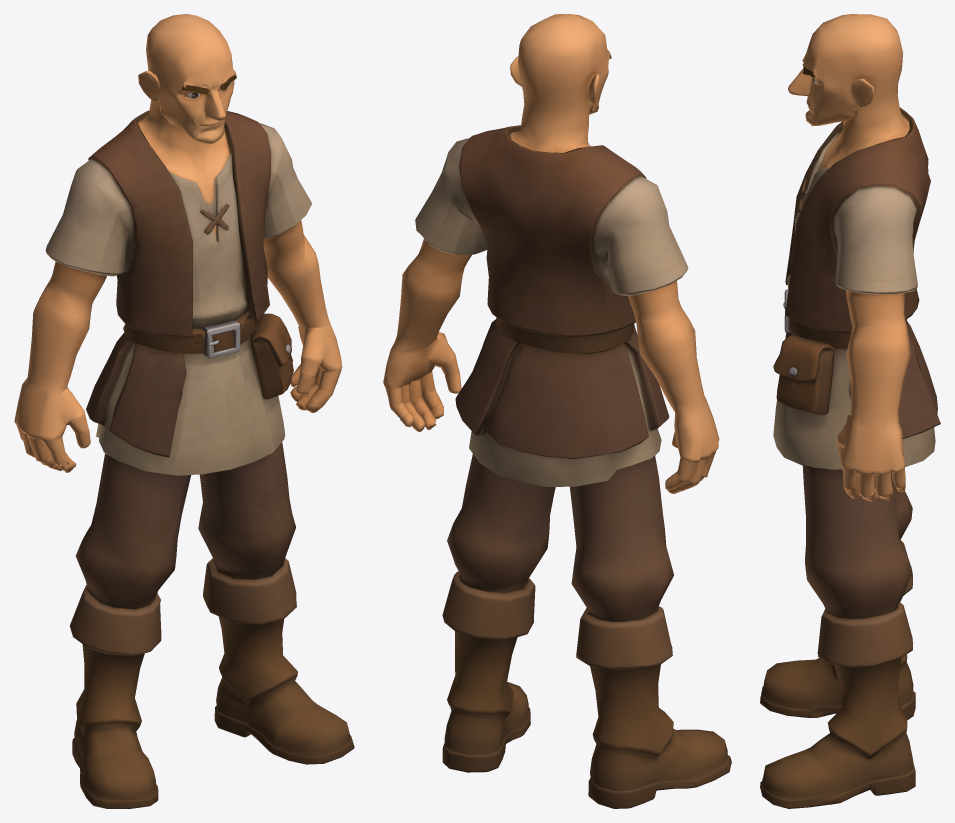
The model's file is meshy-basis.glb.
The picture shows the model from 3 angles, left to right: view 1: azimuth 30°, elevation 25°; view 2: azimuth 150°, elevation 25°; view 3: azimuth 270°, elevation 25°; orthographic projection. The views are drawn at different scales.
Parts seen in each view (by area): view 1: geometry_0; view 2: geometry_0; view 3: geometry_0.
Part boxes in pixels (box(x1,y1,x2,y2)): geometry_0: box(14, 14, 354, 808); geometry_0: box(383, 14, 731, 808); geometry_0: box(760, 14, 940, 808).
Bounding box in the file's own units: 0.4243 × 0.9507 × 0.2129.
Materials: 1 (1 with a texture image).
